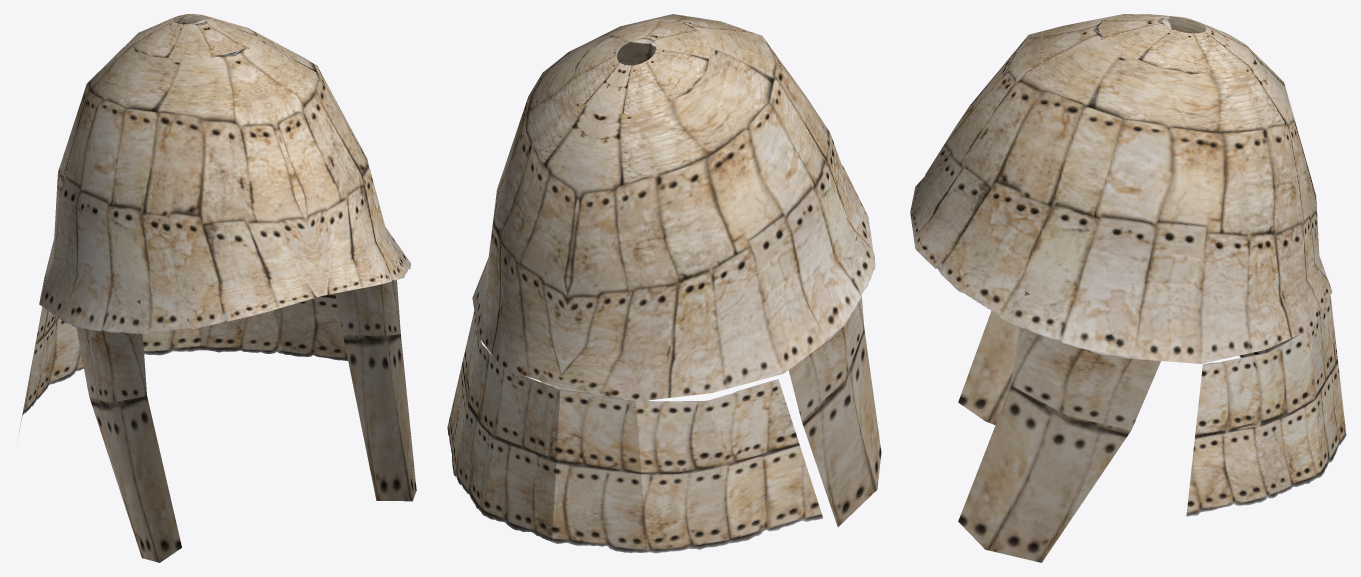
File: boar_tusk_helmet_03.dae
The picture shows the model from 3 angles, left to right: view 1: azimuth 30°, elevation 25°; view 2: azimuth 150°, elevation 25°; view 3: azimuth 270°, elevation 25°; orthographic projection. The views are drawn at different scales.
Visible parts, largest first — view 1: boar_tusk_helmet.001; view 2: boar_tusk_helmet.001; view 3: boar_tusk_helmet.001.
Boxes of the visible parts, x1=… form: boar_tusk_helmet.001: x1=18, y1=14, x2=416, y2=562; boar_tusk_helmet.001: x1=447, y1=14, x2=881, y2=553; boar_tusk_helmet.001: x1=910, y1=14, x2=1346, y2=562.
Size of the model in its own units: 0.5334 by 0.5511 by 0.6724.
Materials: 1 (1 with a texture image).
